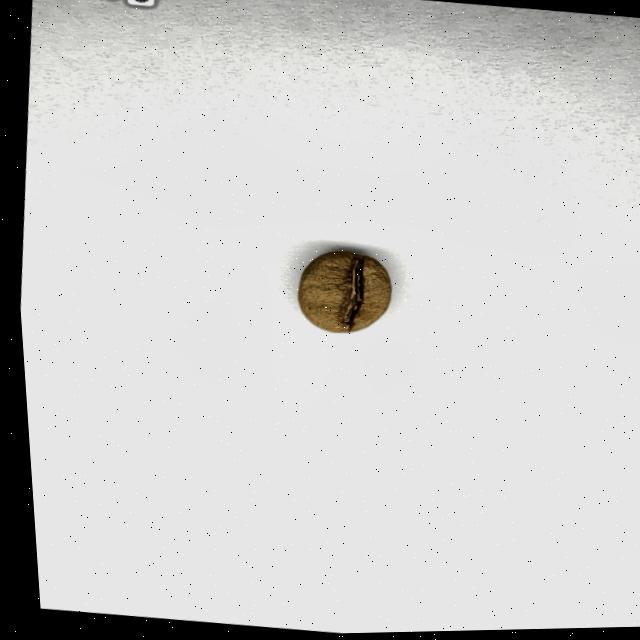Quaker: (291, 248, 390, 340)
